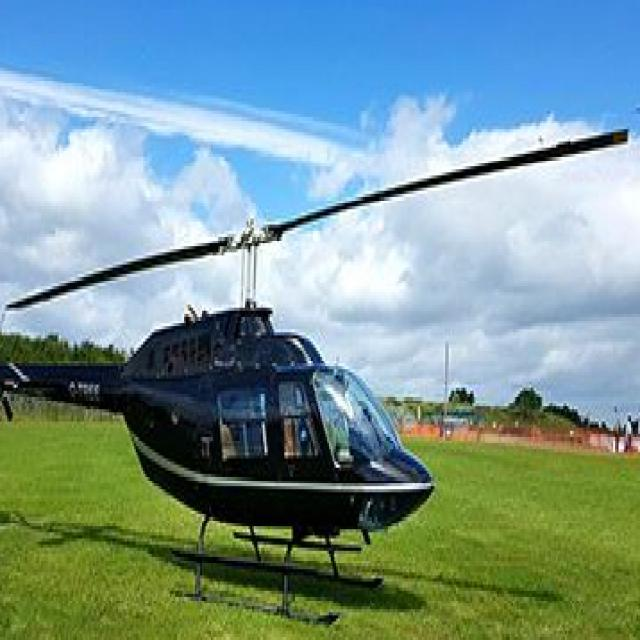helicopter: (1, 127, 634, 635)
